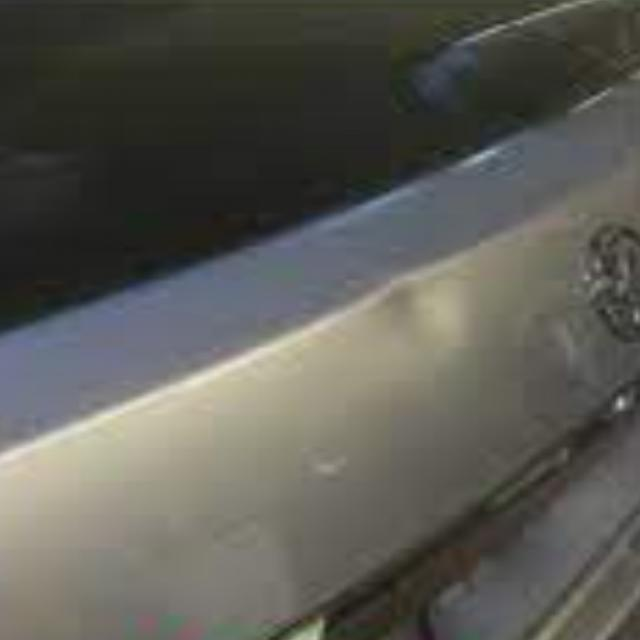dents: (359, 277, 492, 394)
